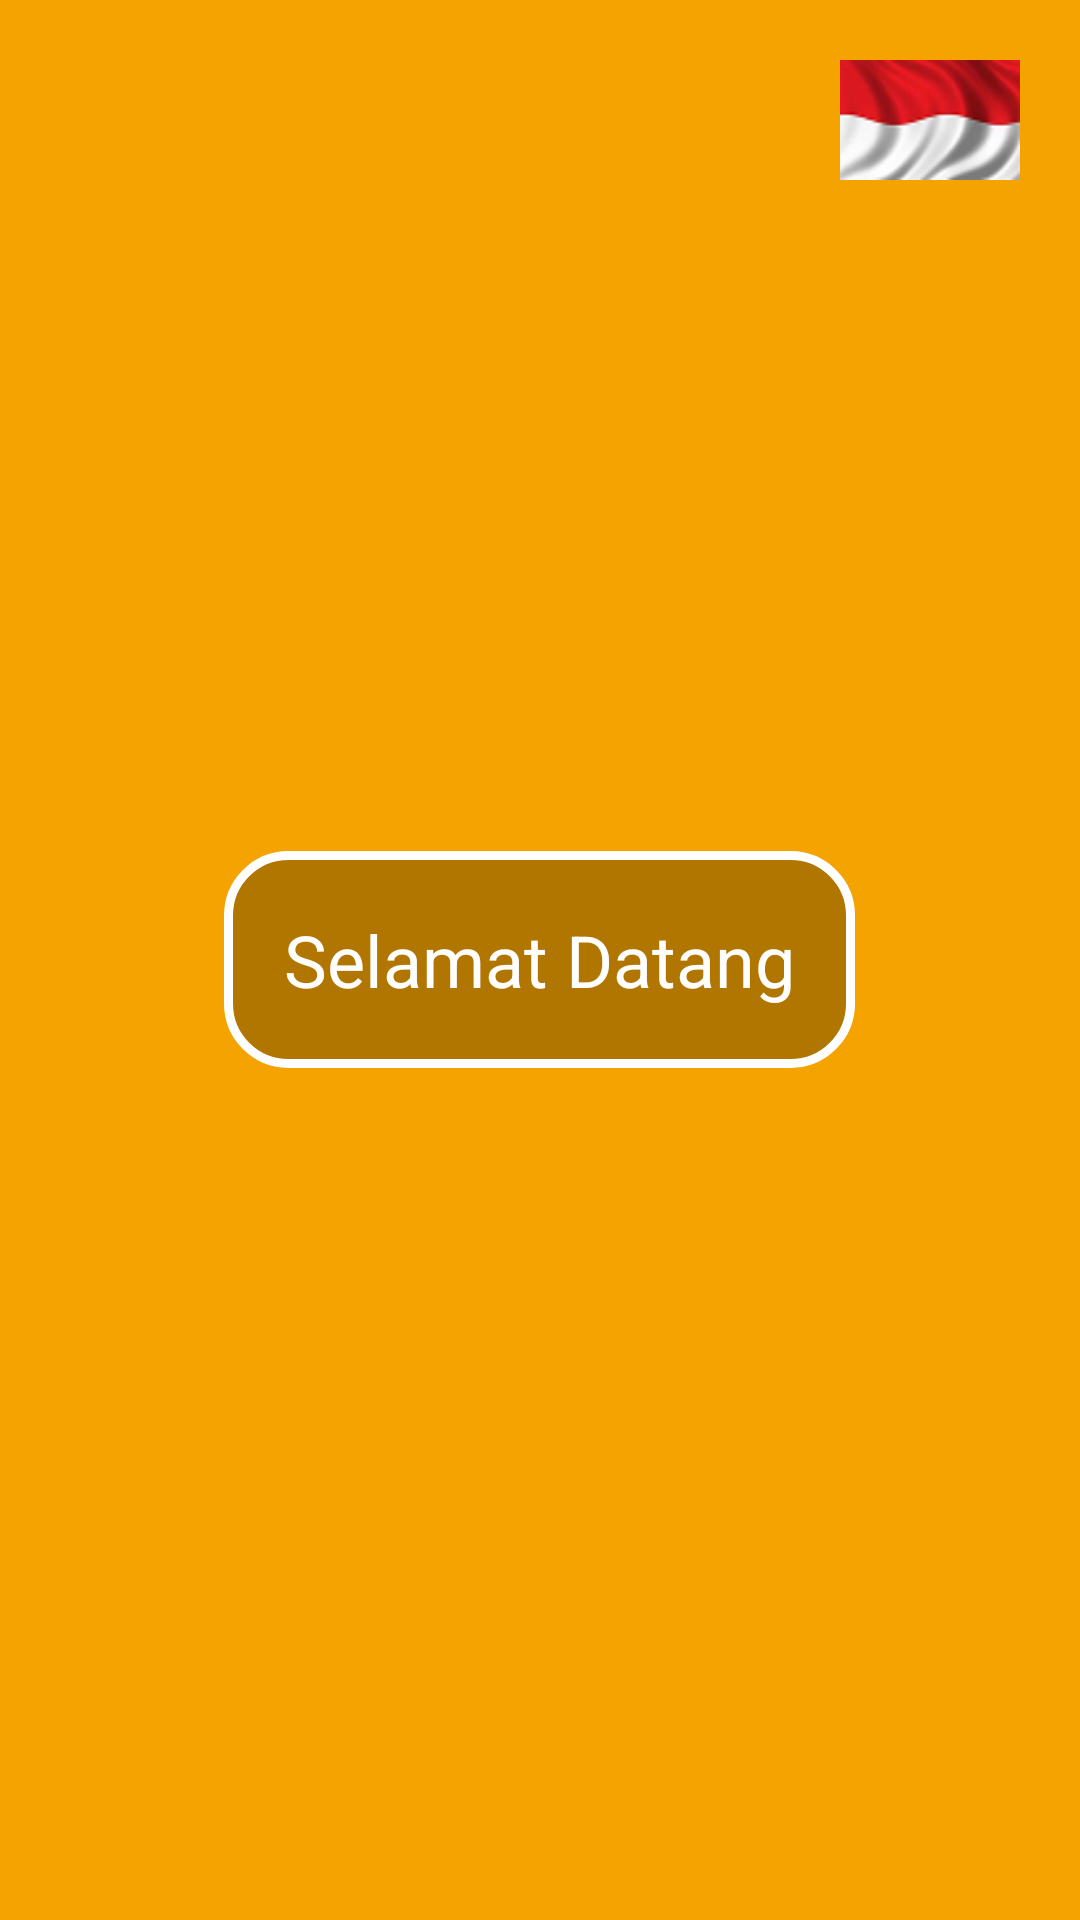

Icons on this 1080 x 1920 Android screen, each with the point to tap as (x,y):
flag id: (930,120)
